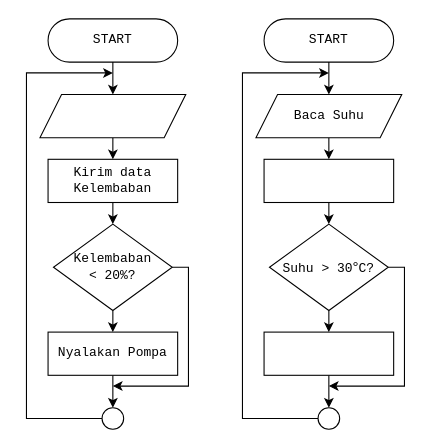
The diagram is 432 pixels wide and 448 high, and some of its shapes have lost their labels. Each missing label, with the centre of its shape:
Baca Kelembaban: [112,115]
Kirim data Suhu: [328,180]
Nyalakan Kipas: [328,353]
